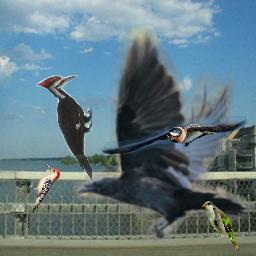Crow: (73, 26, 249, 242)
Cuckoo: (200, 201, 241, 251)
Swallow: (101, 116, 247, 154)
Woodpecker: (36, 75, 92, 184), (27, 164, 60, 214)
